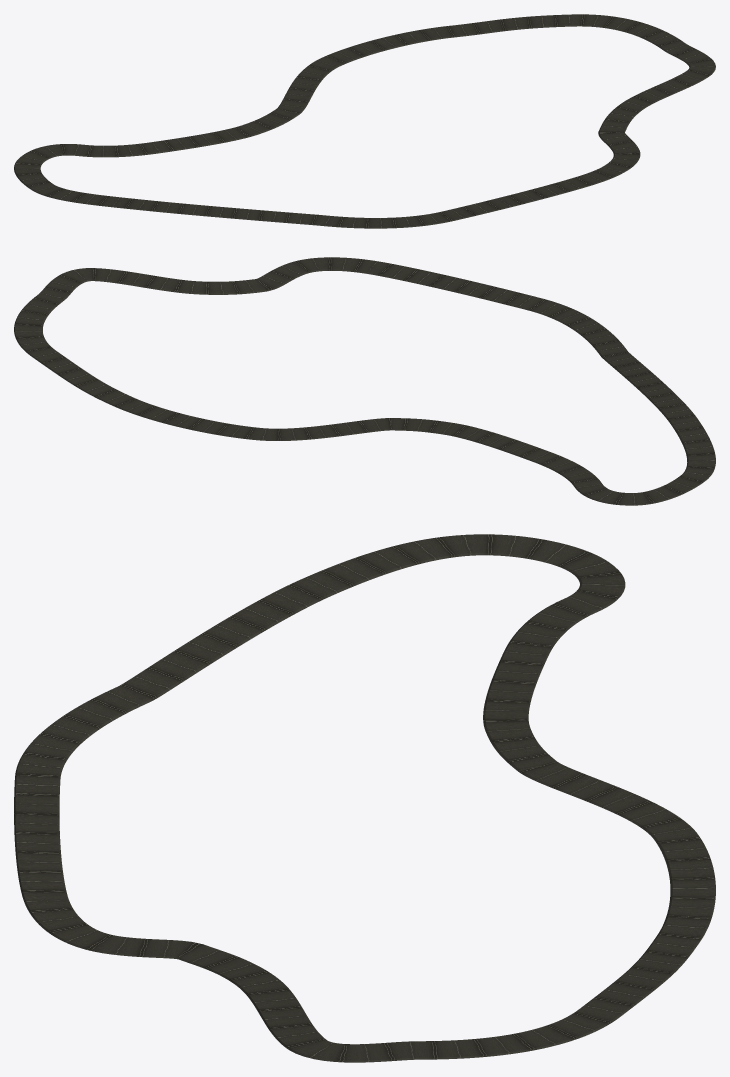
File: csg_test.gltf
3 renders of one model, top to bottom at view 1: azimuth 30°, elevation 25°; view 2: azimuth 150°, elevation 25°; view 3: azimuth 270°, elevation 25°, orthographic. The views are drawn at different scales.
Visible parts, largest first — view 1: polygon_road2; view 2: polygon_road2; view 3: polygon_road2.
Part boxes in pixels (<box>): polygon_road2: <box>14,14,715,228</box>; polygon_road2: <box>14,257,715,505</box>; polygon_road2: <box>14,534,715,1062</box>.
Size of what is drawn, in the model's own units: 166 by 1.75 by 92.43.
Materials: 1 (1 with a texture image).
